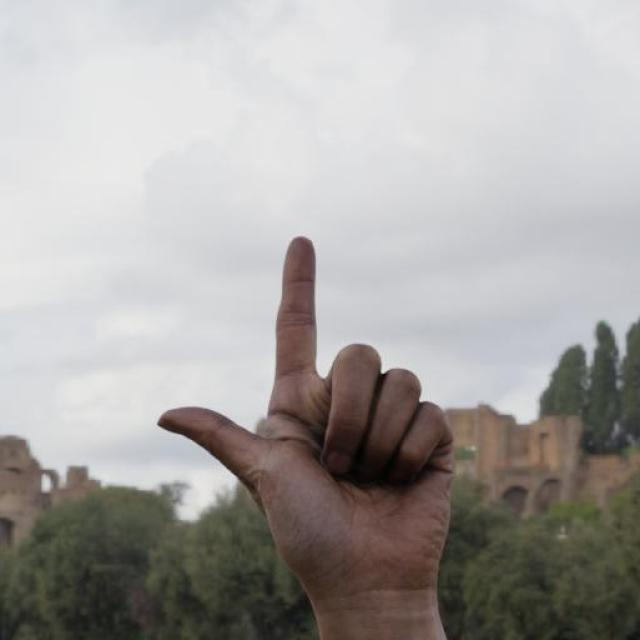L: (153, 234, 458, 604)
